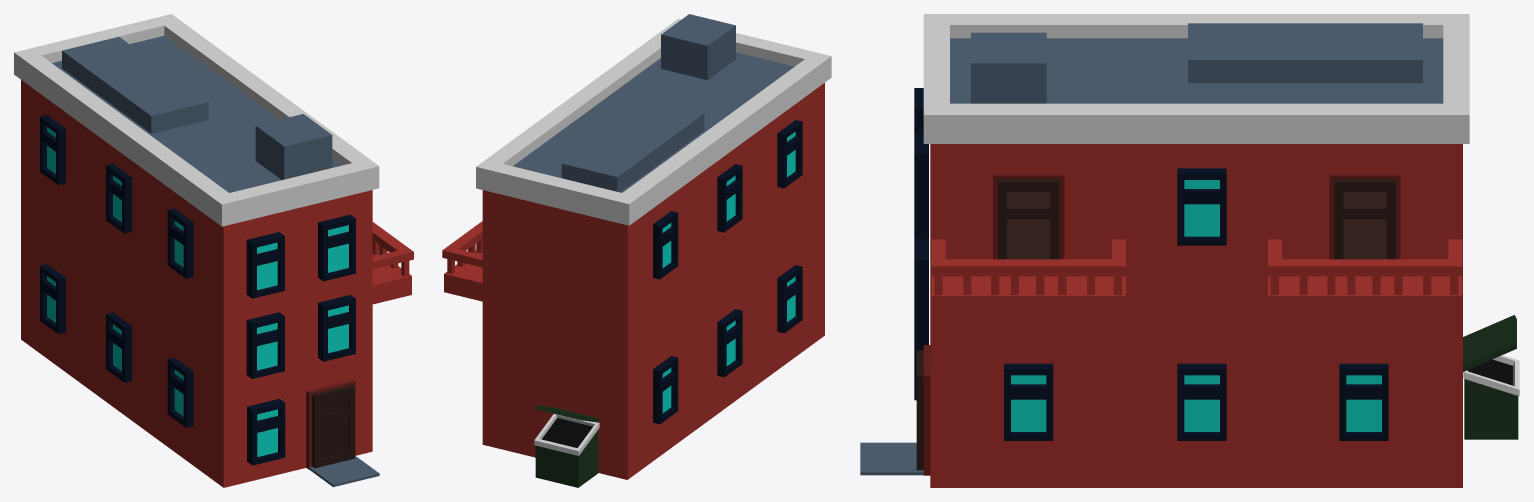
The model's file is TownHouse_3.fbx.
The picture shows the model from 3 angles, left to right: view 1: azimuth 30°, elevation 25°; view 2: azimuth 150°, elevation 25°; view 3: azimuth 270°, elevation 25°; orthographic projection. The views are drawn at different scales.
Parts seen in each view (by area): view 1: TownHouse_3; view 2: TownHouse_3; view 3: TownHouse_3.
Part boxes in pixels (x1,y1,x2,y2): TownHouse_3: [14, 14, 413, 487]; TownHouse_3: [442, 14, 831, 487]; TownHouse_3: [860, 14, 1519, 487].
Size of the model in its own units: 26.82 by 40.35 by 58.95.
